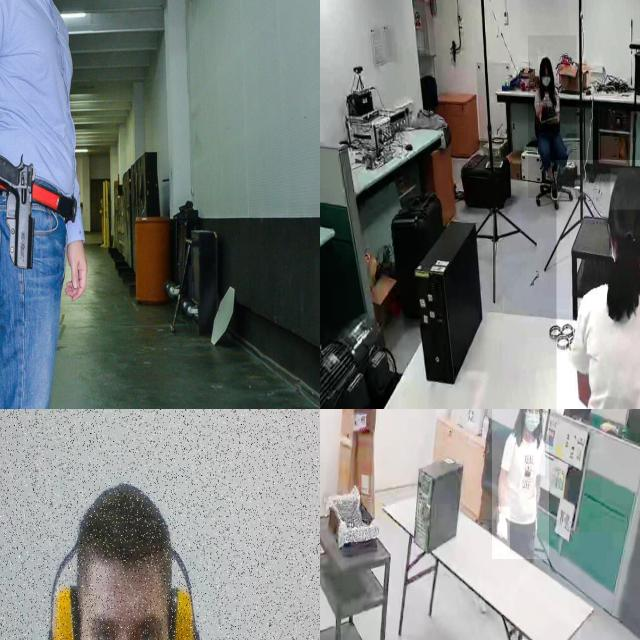Ear-protection: (160, 561, 205, 640), (41, 574, 93, 640)
No_Glasses: (86, 599, 165, 640)
face_mask: (521, 409, 544, 444), (541, 68, 550, 89)
hand_glove: (496, 506, 511, 554)
head_nohelmet: (610, 167, 640, 210), (538, 56, 552, 68)
person: (0, 0, 96, 409), (556, 160, 640, 409), (492, 409, 549, 560), (528, 35, 577, 199)
